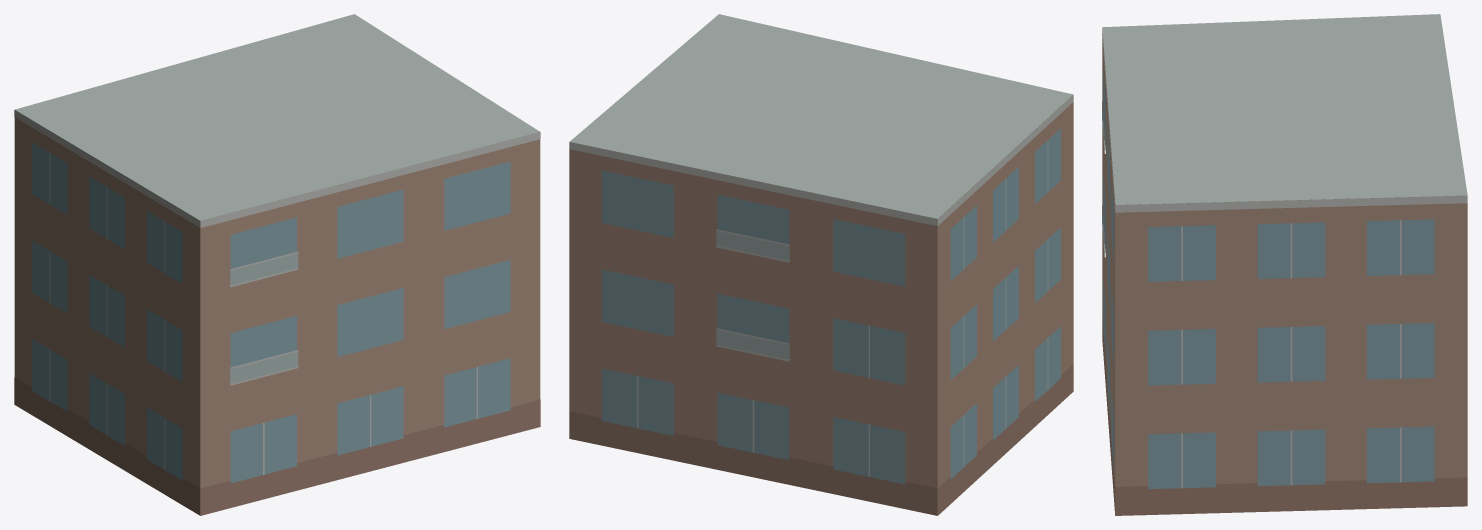
The model's file is survey-upis-32629249.glb.
3 views of the same model, side by side, from view 1: azimuth 30°, elevation 25°; view 2: azimuth 150°, elevation 25°; view 3: azimuth 270°, elevation 25° (orthographic). The views are drawn at different scales.
Parts seen in each view (by area): view 1: survey-upis-32629249.tmp; view 2: survey-upis-32629249.tmp; view 3: survey-upis-32629249.tmp.
Boxes of the visible parts, x1,y1,x2,y2 form: survey-upis-32629249.tmp: [14, 14, 540, 515]; survey-upis-32629249.tmp: [569, 14, 1073, 515]; survey-upis-32629249.tmp: [1102, 14, 1467, 515].
Size of the model in its own units: 13.06 by 9.9 by 10.56.
